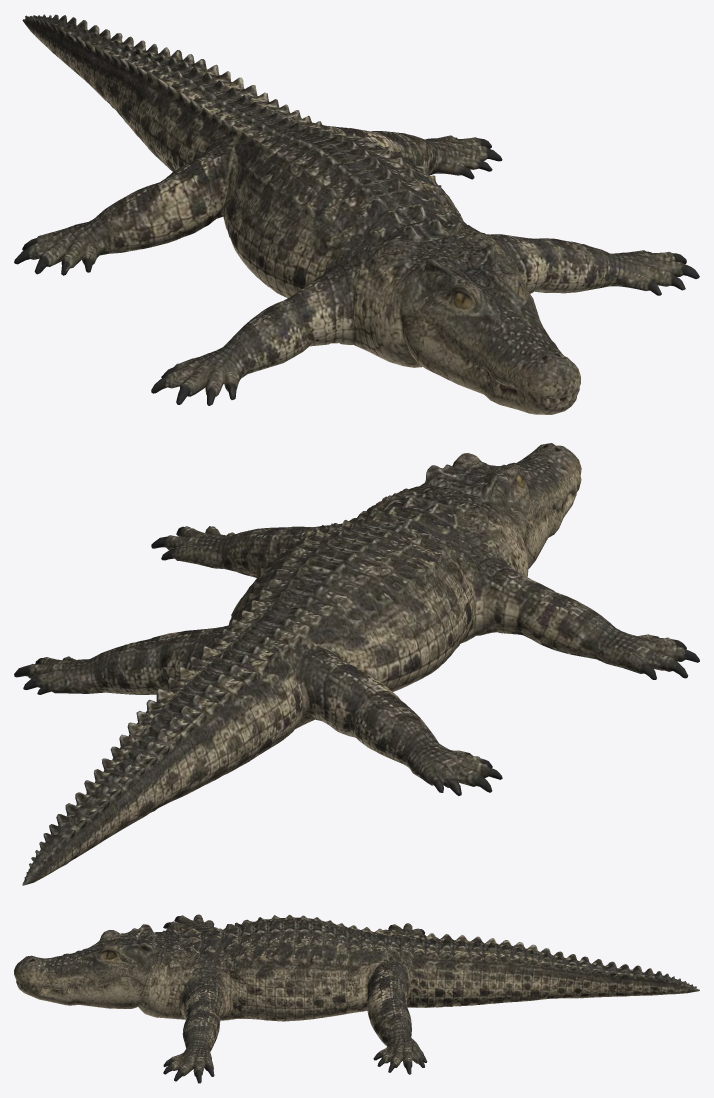
File: croc-regular.glb
3 renders of one model, top to bottom at view 1: azimuth 30°, elevation 25°; view 2: azimuth 150°, elevation 25°; view 3: azimuth 270°, elevation 25°, orthographic. The views are drawn at different scales.
Visible parts, largest first — view 1: Model; view 2: Model; view 3: Model.
Boxes of the visible parts, box(x1,y1,x2,y2) form: Model: box(14, 14, 699, 414); Model: box(14, 443, 699, 885); Model: box(14, 914, 699, 1083).
Size of the model in its own units: 1.08 by 0.2406 by 1.9.
1 material, 1 textured.
